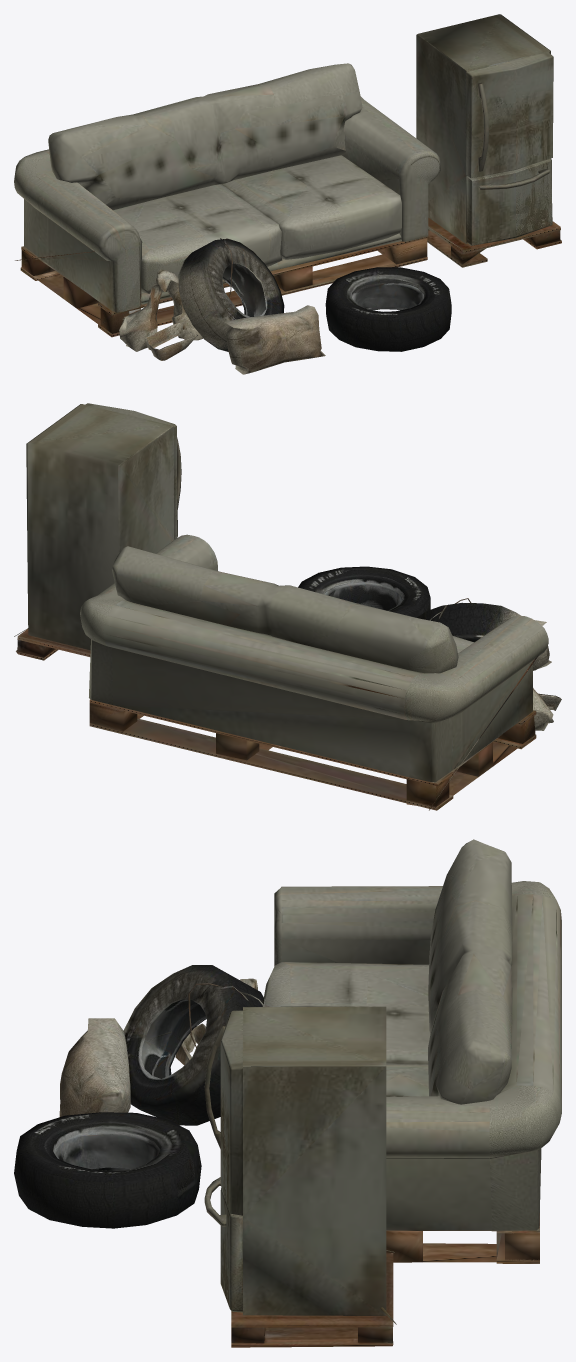
The model's file is prp_barricade.glb.
3 views of the same model, one above another, from view 1: azimuth 30°, elevation 25°; view 2: azimuth 150°, elevation 25°; view 3: azimuth 270°, elevation 25° (orthographic). The views are drawn at different scales.
Size of the model in its own units: 0.9526 by 0.4009 by 0.7002.
Materials: 1 (1 with a texture image).
